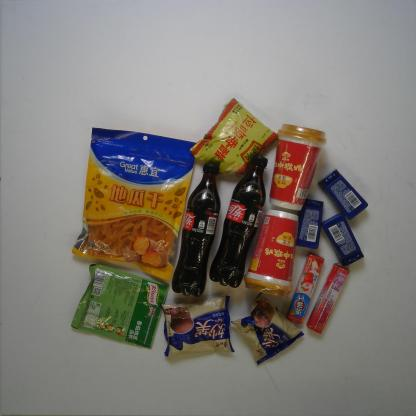Candy: (304, 260, 352, 336), (284, 250, 326, 326)
Dessert: (229, 291, 306, 369), (158, 293, 236, 361)
Dried Fruit: (68, 125, 197, 283)
Drink: (208, 153, 269, 290), (168, 160, 222, 300)
Instant Drink: (239, 208, 301, 300), (267, 120, 328, 213)
Personal Hygiene: (316, 166, 370, 221), (318, 212, 366, 267), (295, 197, 324, 251)
Seasoner: (67, 261, 172, 353), (189, 95, 281, 180)
